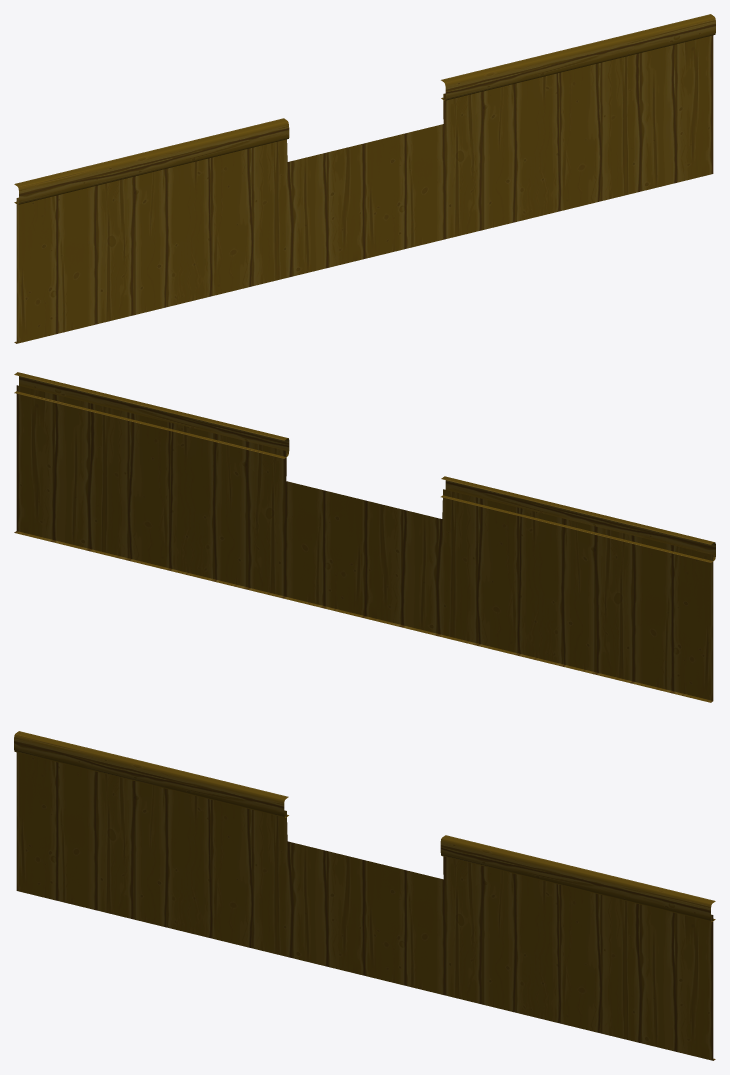
The model's file is SM_wooden_panel_02.glb.
3 views of the same model, one above another, from view 1: azimuth 30°, elevation 25°; view 2: azimuth 150°, elevation 25°; view 3: azimuth 330°, elevation 25° (orthographic).
Visible parts, largest first — view 1: SM_wooden_panel_02; view 2: SM_wooden_panel_02; view 3: SM_wooden_panel_02.
Part boxes in pixels (x1,y1,x2,y2): SM_wooden_panel_02: [14, 14, 715, 343]; SM_wooden_panel_02: [14, 372, 715, 702]; SM_wooden_panel_02: [14, 731, 715, 1060].
Size of the model in its own units: 6 by 1.3 by 0.075.
Materials: 1 (1 with a texture image).
